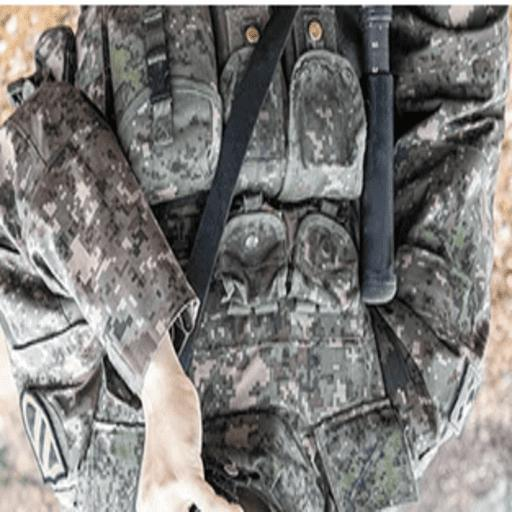korea army: (0, 5, 510, 511), (4, 10, 504, 511)
